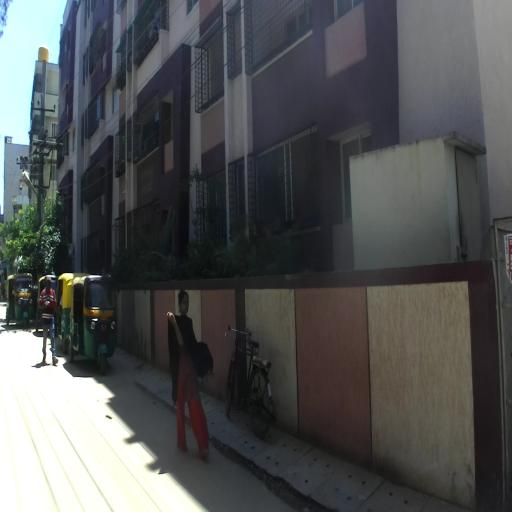street_light_0: (22, 171, 42, 213)
